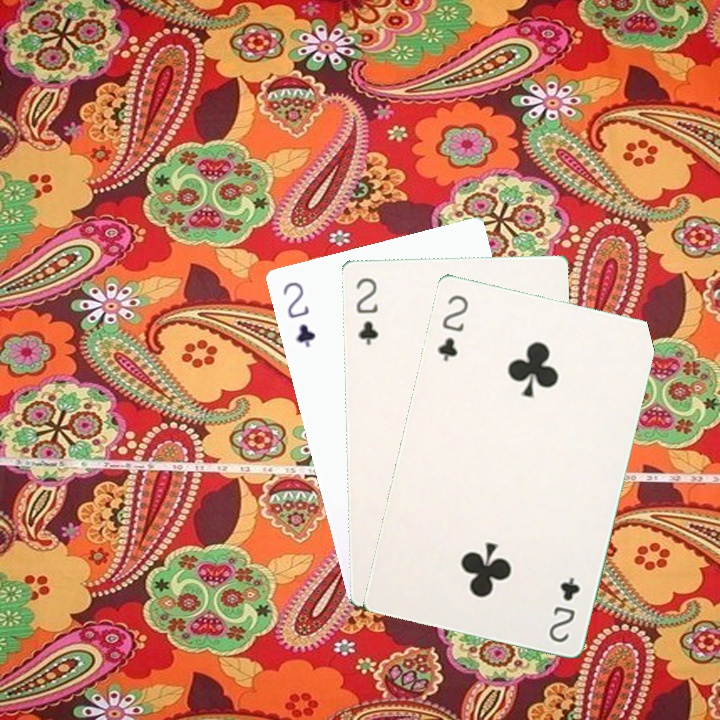2c: (278, 277, 318, 351), (433, 290, 471, 364), (544, 573, 583, 645), (352, 274, 381, 348)
